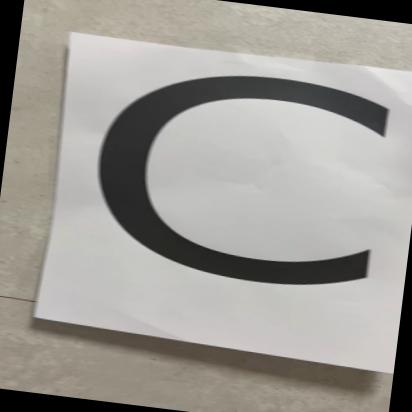seat: (34, 27, 412, 367)
